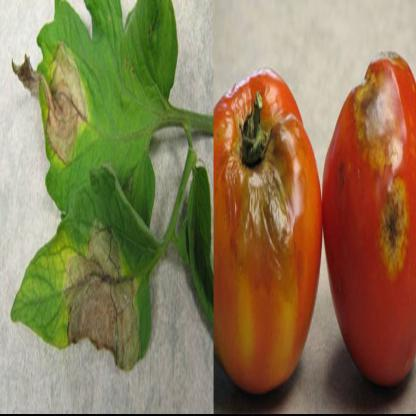Tomato leaf mosaic virus: (2, 164, 168, 404), (9, 6, 191, 215)
